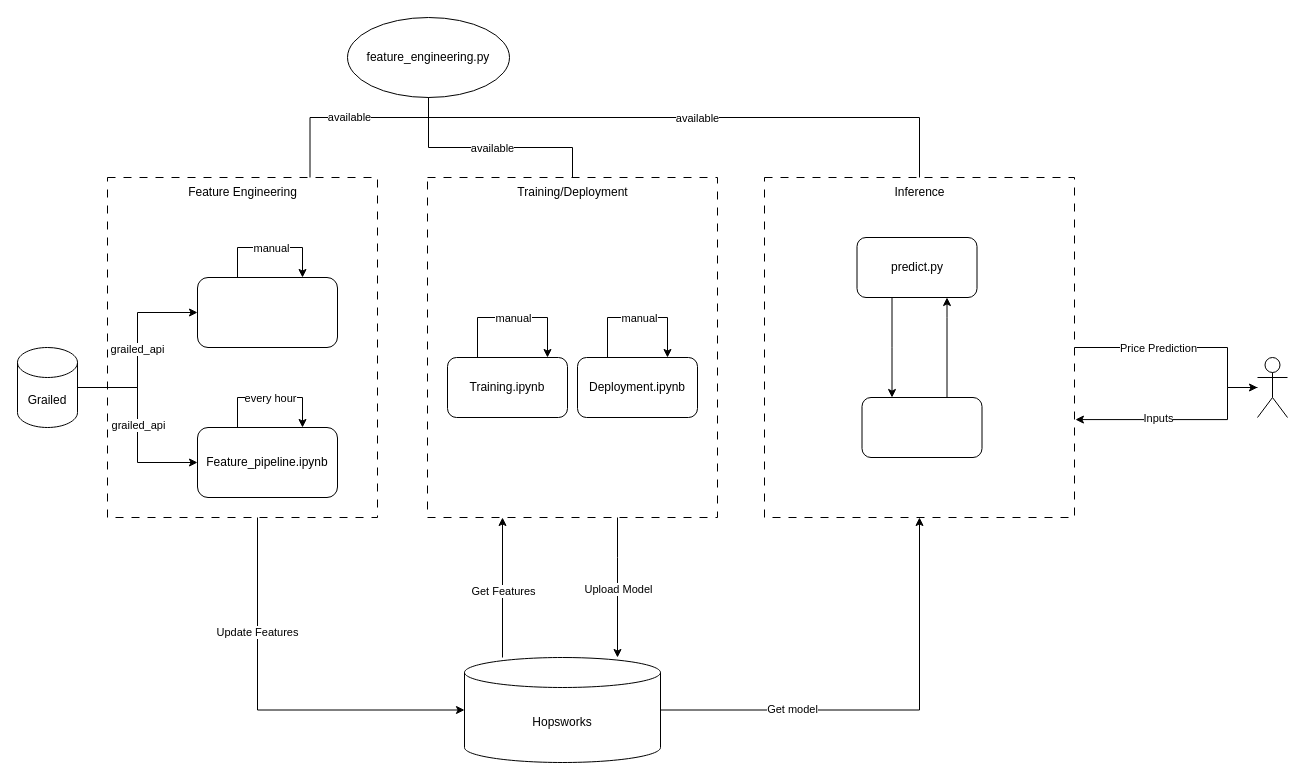
Some shapes in this 1305 by 780 pixel diagram are drawn without their labels. The box of each missing label's shape, as (x1, y1, x2, y2) in pixels:
Feature_backfill.ipynb: (196, 276, 338, 348)
UI: (861, 396, 982, 458)
User: (1256, 356, 1288, 418)
